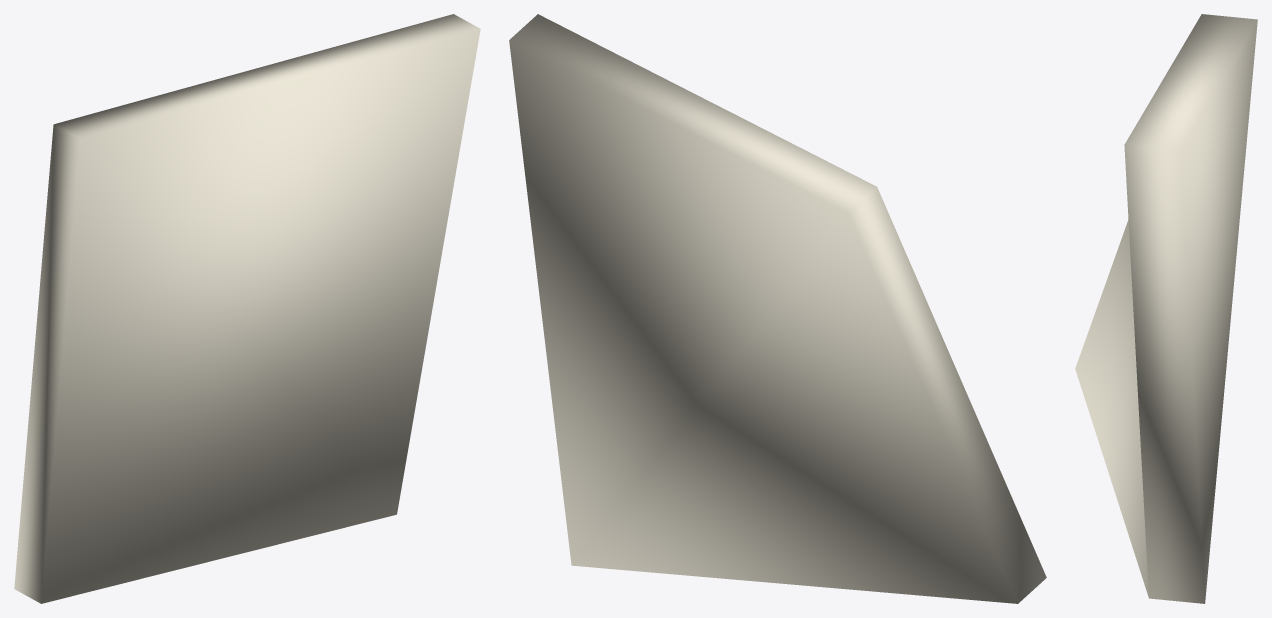
3 renders of one model, left to right at view 1: azimuth 30°, elevation 25°; view 2: azimuth 150°, elevation 25°; view 3: azimuth 270°, elevation 25°, orthographic. The views are drawn at different scales.
Parts seen in each view (by area): view 1: ZA_187a39e40cdde93e; view 2: ZA_187a39e40cdde93e; view 3: ZA_187a39e40cdde93e.
Part boxes in pixels (bbox=[...]): ZA_187a39e40cdde93e: bbox=[14, 14, 480, 603]; ZA_187a39e40cdde93e: bbox=[509, 14, 1046, 603]; ZA_187a39e40cdde93e: bbox=[1075, 14, 1257, 603].
Size of the model in its own units: 0.00487 by 0.00484 by 0.00162.
